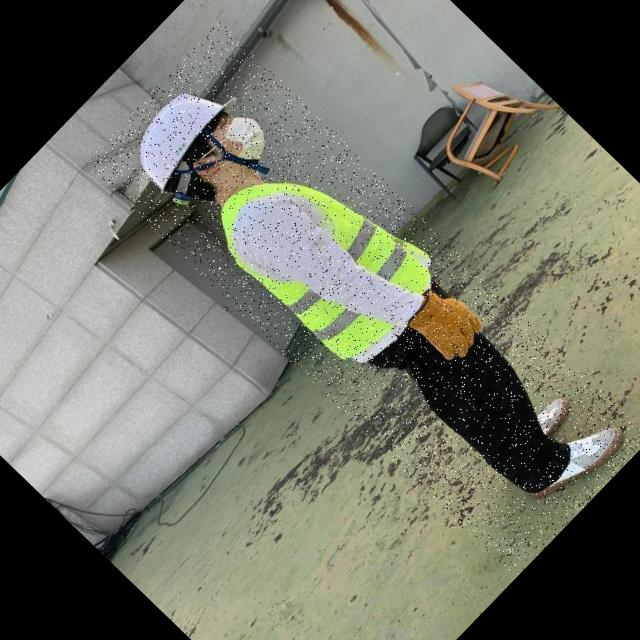hard_hat: (104, 58, 250, 206)
safety_vest: (192, 120, 454, 381)
vehicle: (83, 21, 640, 579)
work_boots: (526, 404, 635, 515), (514, 382, 586, 454)
